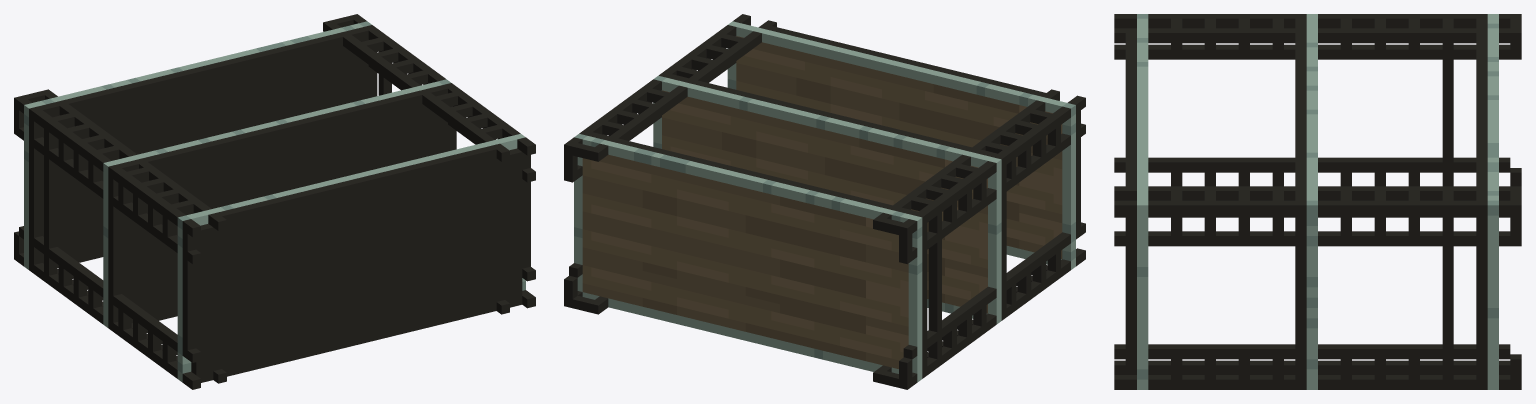
Rendered from Shelf-3.obj.
3 renders of one model, left to right at view 1: azimuth 30°, elevation 25°; view 2: azimuth 150°, elevation 25°; view 3: azimuth 270°, elevation 25°, orthographic. The views are drawn at different scales.
Visible parts, largest first — view 1: Shelf-3; view 2: Shelf-3; view 3: Shelf-3.
Boxes of the visible parts, x1=… form: Shelf-3: x1=14, y1=14, x2=535, y2=389; Shelf-3: x1=564, y1=14, x2=1085, y2=389; Shelf-3: x1=1114, y1=14, x2=1521, y2=389.
Size of the model in its own units: 0.8 by 0.36 by 0.72.
